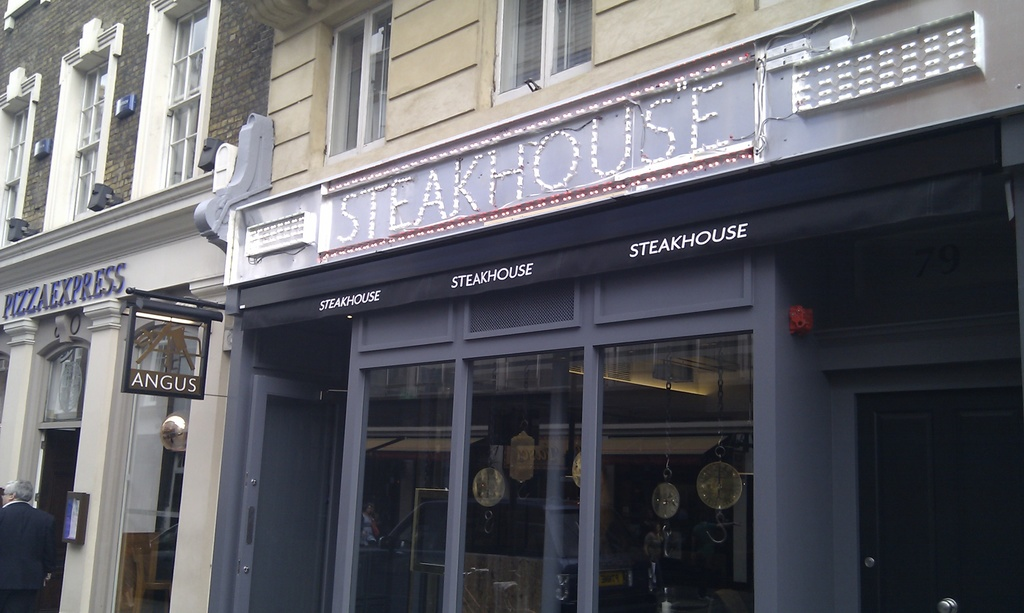door: (855, 399, 1024, 613), (253, 379, 329, 613)
handle: (923, 589, 958, 613)
